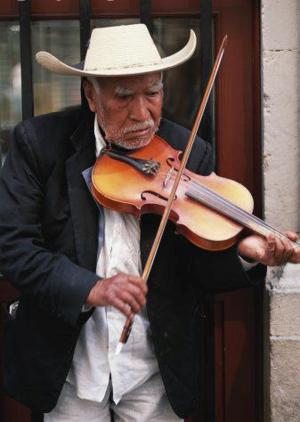person: (1, 22, 300, 422)
